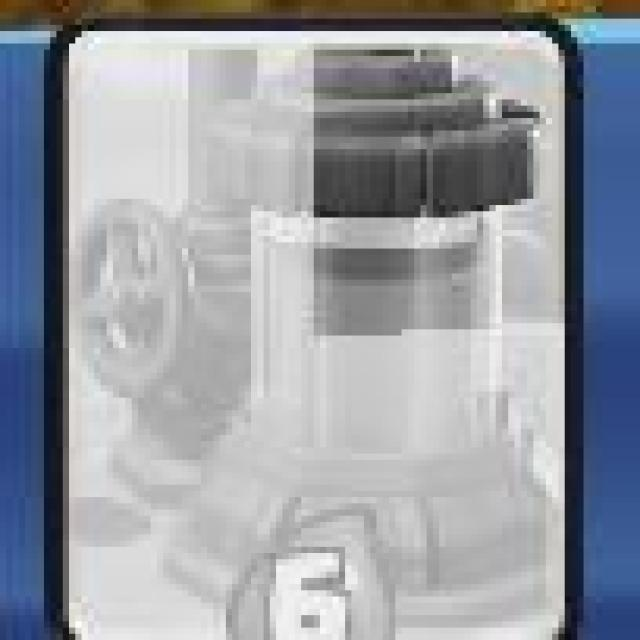Elixir_Pump: (60, 27, 578, 640)
